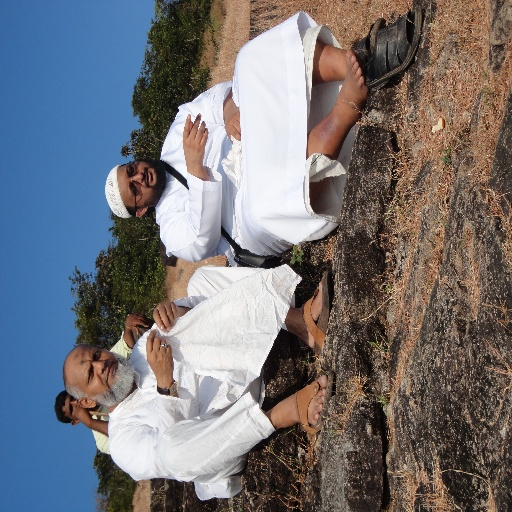hand: (175, 104, 211, 177), (145, 328, 173, 383), (151, 299, 179, 332), (222, 100, 241, 142), (123, 314, 150, 337), (74, 406, 91, 427)
